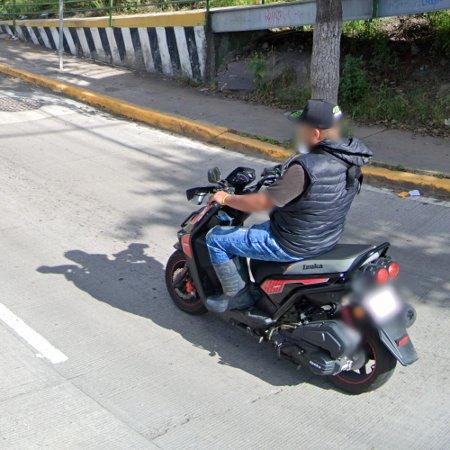motorcycles: (225, 244, 419, 394), (166, 165, 282, 315)
